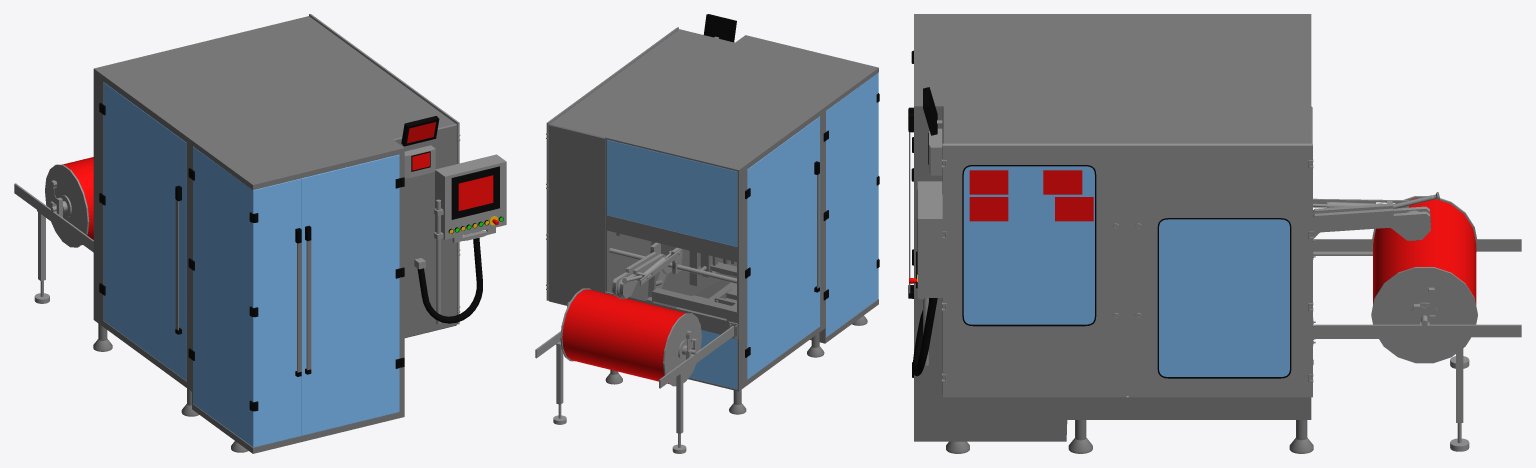
The model's file is bosch.FBX.
3 views of the same model, side by side, from view 1: azimuth 30°, elevation 25°; view 2: azimuth 150°, elevation 25°; view 3: azimuth 270°, elevation 25° (orthographic). The views are drawn at different scales.
Visible parts, largest first — view 1: Box001 (×2), Line005, Box093, Box086, Box004, Box010, Cylinder012, Line001, Box011, Box012, Box017, Group061 (+8 smaller); view 2: Box001 (×2), Box004, Box086, Line005, Box097, Group061, Box098, Cylinder012, Box021, Cylinder004, Box017, Box041 (+6 smaller); view 3: Box001 (×2), Box007, Box009, Box004, Cylinder012, Group061, Box027, Box010, Line003, Box017, Cylinder004, Box008 (+9 smaller).
Part boxes in pixels (x1,y1,x2,y2): Box001 (×2): (93,14,460,453); Line005: (193,146,301,447); Box093: (301,154,399,435); Box086: (103,82,186,380); Box004: (245,16,456,337); Box010: (434,154,506,242); Cylinder012: (45,164,89,247); Line001: (417,238,482,323); Box011: (451,166,499,219); Box012: (458,175,493,210); Box017: (14,183,93,252); Group061: (62,157,93,245); Box001 (×2): (546,27,878,391); Box004: (548,29,734,305); Box086: (747,116,820,379); Line005: (826,73,878,337); Box097: (607,139,737,246); Group061: (562,289,686,384); Box098: (689,330,737,389); Cylinder012: (560,288,701,386); Box021: (652,288,731,318); Cylinder004: (605,315,867,414); Box017: (659,326,733,388); Box041: (703,14,736,42); Box001 (×2): (914,14,1313,441); Box007: (1159,219,1289,376); Box009: (963,166,1094,324); Box004: (942,106,1312,394); Cylinder012: (1371,196,1477,363); Group061: (1373,198,1476,304); Box027: (1313,324,1521,338); Box010: (917,181,942,299); Line003: (1313,208,1430,240); Box017: (1313,239,1521,255); Cylinder004: (946,359,1313,453); Box008: (962,165,1096,326).
Bounding box in the file's own units: 60.6 × 66.12 × 99.48.
